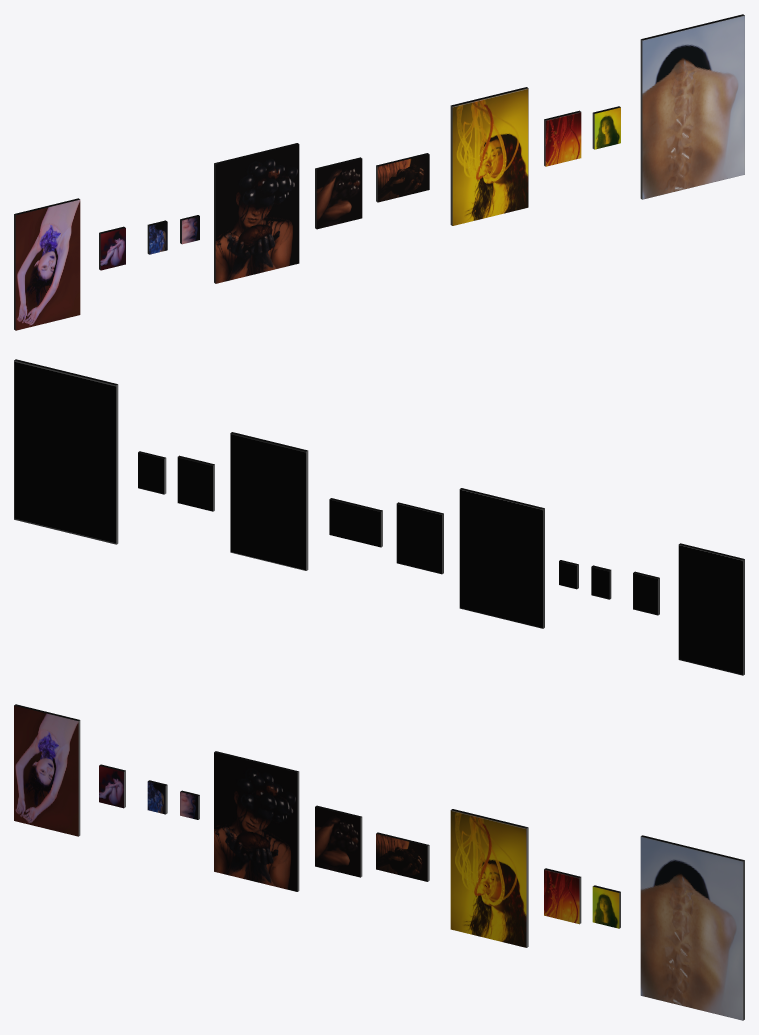
The picture shows the model from 3 angles, top to bottom: view 1: azimuth 30°, elevation 25°; view 2: azimuth 150°, elevation 25°; view 3: azimuth 330°, elevation 25°; orthographic projection.
Visible parts, largest first — view 1: _D, _B, _C, _A, _B1, _B2, _C1, _C2, _A1, _A2; view 2: _D, _B, _C, _A, _B1, _B2, _C1, _C2, _A1, _A2; view 3: _D, _B, _C, _A, _B1, _B2, _C1, _C2, _A1, _A2.
Boxes of the visible parts, x1,y1,x2,y2 form: _D: (640, 14, 744, 199); _B: (214, 143, 299, 283); _C: (450, 87, 528, 225); _A: (14, 198, 80, 330); _B1: (315, 157, 362, 229); _B2: (376, 153, 429, 202); _C1: (544, 110, 581, 166); _C2: (592, 106, 620, 149); _A1: (99, 226, 125, 270); _A2: (147, 220, 167, 254); _D: (14, 359, 118, 544); _B: (459, 488, 544, 628); _C: (230, 432, 308, 570); _A: (678, 543, 744, 675); _B1: (396, 502, 443, 574); _B2: (329, 498, 382, 547); _C1: (177, 455, 214, 511); _C2: (138, 451, 166, 494); _A1: (633, 571, 659, 615); _A2: (591, 565, 611, 599); _D: (640, 835, 744, 1020); _B: (214, 751, 299, 891); _C: (450, 809, 528, 947); _A: (14, 704, 80, 836); _B1: (315, 805, 362, 877); _B2: (376, 832, 429, 881); _C1: (544, 868, 581, 924); _C2: (592, 885, 620, 928); _A1: (99, 764, 125, 808); _A2: (147, 780, 167, 814).
Bounding box in the file's own units: 959 × 200 × 4.
Materials: 1 (1 with a texture image).
